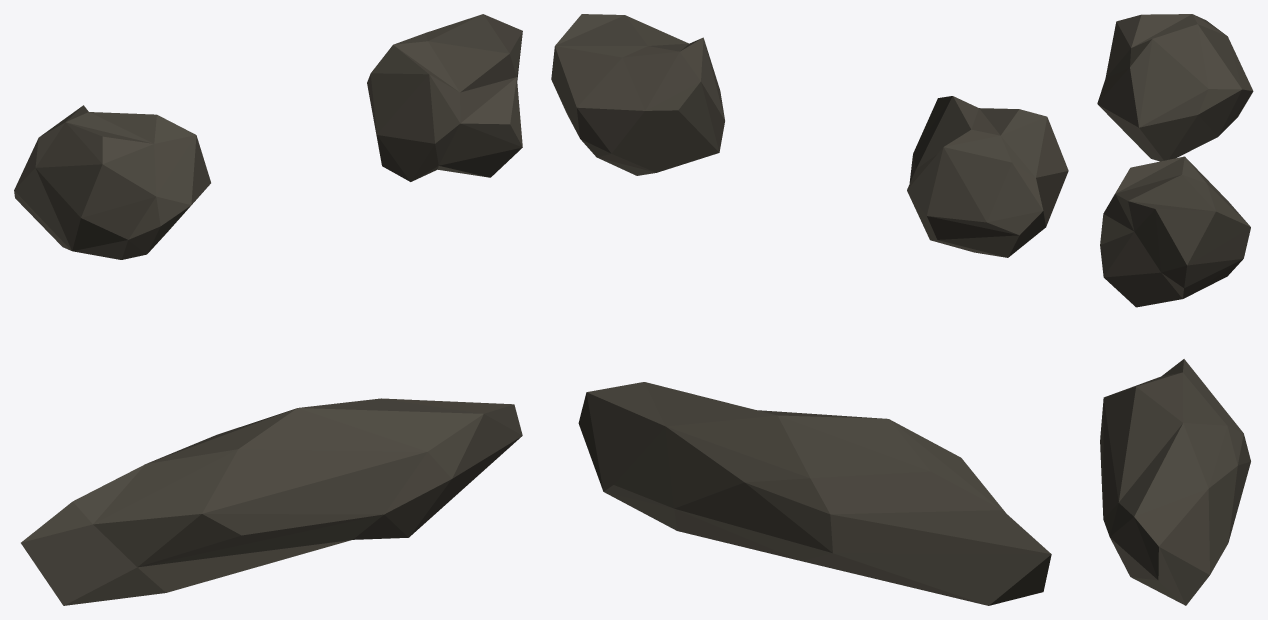
The model's file is TPiece.FBX.
3 renders of one model, left to right at view 1: azimuth 30°, elevation 25°; view 2: azimuth 150°, elevation 25°; view 3: azimuth 270°, elevation 25°, orthographic. The views are drawn at different scales.
Visible parts, largest first — view 1: TPiece; view 2: TPiece; view 3: TPiece.
Part boxes in pixels (x1,y1,x2,y2): TPiece: [14, 14, 522, 605]; TPiece: [551, 14, 1068, 605]; TPiece: [1097, 14, 1253, 605].
Size of the model in its own units: 114 by 105 by 33.81.
